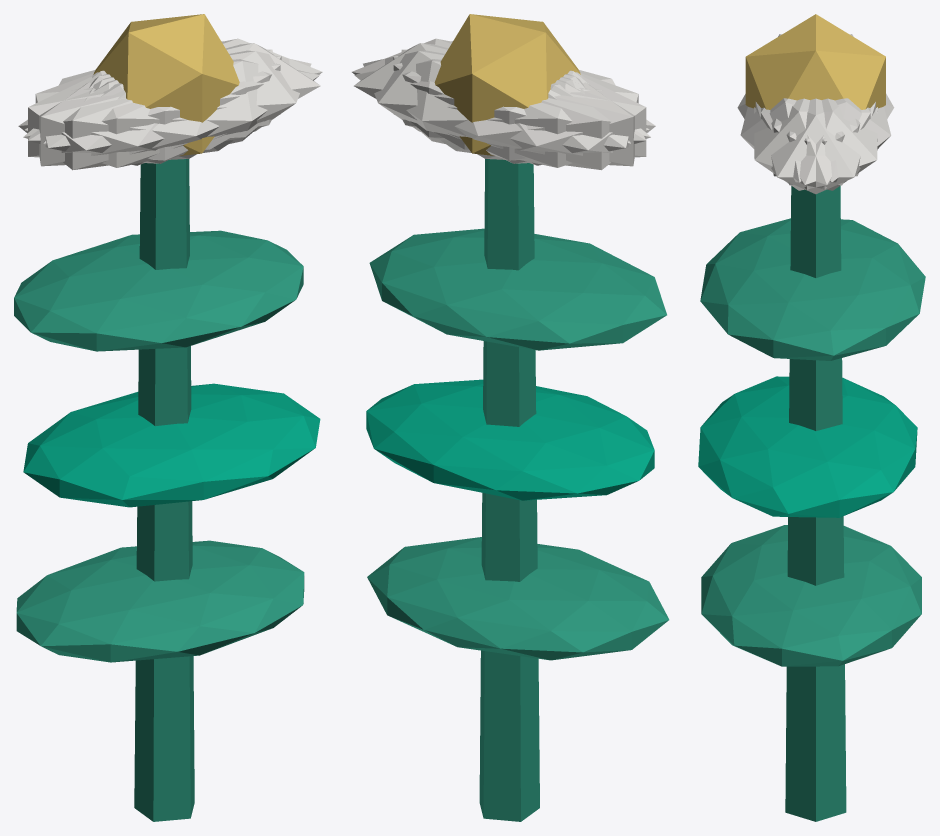
Rendered from cnidoscolus-multilobus.glb.
3 renders of one model, left to right at view 1: azimuth 30°, elevation 25°; view 2: azimuth 150°, elevation 25°; view 3: azimuth 270°, elevation 25°, orthographic.
Visible parts, largest first — view 1: leaf1, leaf2, leaf0, stem, center, petal1, petal6, petal2, petal5, petal7, petal0, petal4 (+2 smaller); view 2: leaf2, leaf0, leaf1, stem, center, petal8, petal3, petal7, petal4, petal2, petal0, petal5 (+2 smaller); view 3: leaf2, leaf1, leaf0, stem, center, petal0, petal4, petal5, petal8, petal1.
Boxes of the visible parts, left/top/right/bottom form: leaf1: left=23, top=383, right=320, bottom=507; leaf2: left=14, top=230, right=303, bottom=351; leaf0: left=16, top=540, right=304, bottom=662; stem: left=134, top=159, right=194, bottom=821; center: left=93, top=14, right=239, bottom=155; petal1: left=23, top=59, right=319, bottom=167; petal6: left=18, top=72, right=233, bottom=170; petal2: left=39, top=49, right=272, bottom=166; petal5: left=43, top=50, right=311, bottom=160; petal7: left=28, top=56, right=281, bottom=163; petal0: left=93, top=43, right=320, bottom=149; petal4: left=25, top=38, right=322, bottom=140; leaf2: left=369, top=228, right=666, bottom=350; leaf0: left=367, top=537, right=669, bottom=660; leaf1: left=366, top=379, right=654, bottom=500; stem: left=479, top=159, right=539, bottom=821; center: left=434, top=14, right=580, bottom=155; petal8: left=354, top=59, right=650, bottom=167; petal3: left=441, top=72, right=655, bottom=170; petal7: left=401, top=49, right=634, bottom=166; petal4: left=363, top=50, right=630, bottom=160; petal2: left=393, top=56, right=646, bottom=163; petal0: left=354, top=43, right=581, bottom=149; petal5: left=352, top=38, right=649, bottom=140; leaf2: left=700, top=218, right=925, bottom=360; leaf1: left=698, top=376, right=917, bottom=517; leaf0: left=701, top=525, right=921, bottom=666; stem: left=785, top=185, right=846, bottom=821; center: left=745, top=14, right=885, bottom=109; petal0: left=755, top=98, right=875, bottom=194; petal4: left=761, top=98, right=877, bottom=190; petal5: left=754, top=98, right=870, bottom=190; petal8: left=771, top=98, right=891, bottom=182; petal1: left=740, top=98, right=860, bottom=182.
Bounding box in the file's own units: 0.1483 × 0.3736 × 0.0993.
